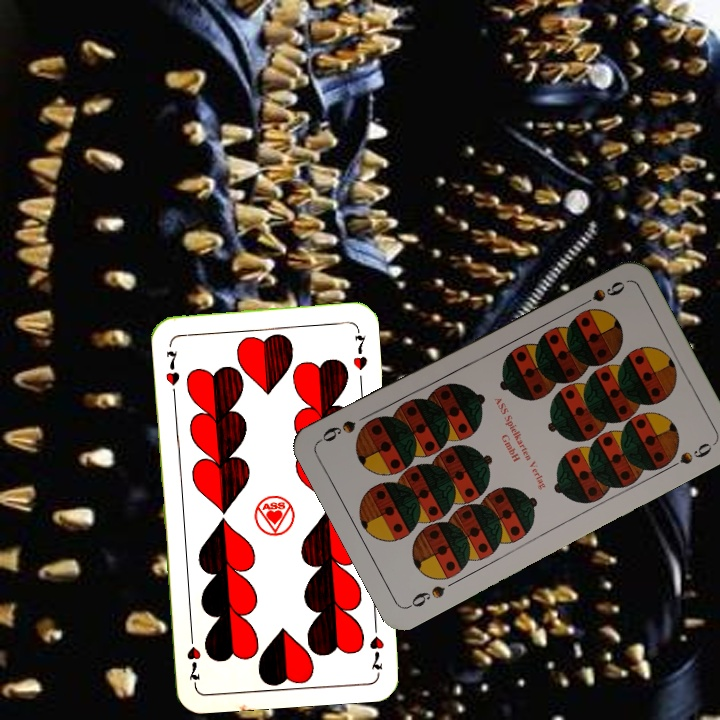H7: (366, 616, 386, 672), (161, 346, 183, 388)
S9: (573, 277, 628, 311), (404, 581, 448, 611)
